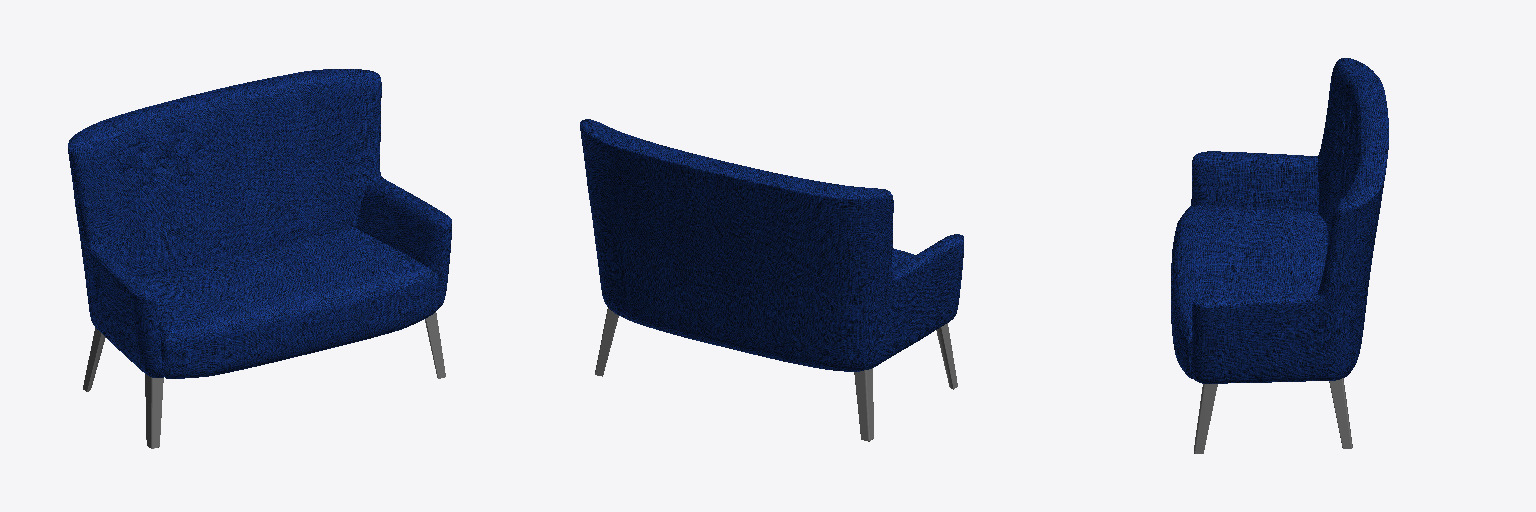
3 renders of one model, left to right at view 1: azimuth 30°, elevation 25°; view 2: azimuth 150°, elevation 25°; view 3: azimuth 270°, elevation 25°, orthographic.
Parts seen in each view (by area): view 1: deadgood_love_chair_double_blue; view 2: deadgood_love_chair_double_blue; view 3: deadgood_love_chair_double_blue.
Boxes of the visible parts, x1=… form: deadgood_love_chair_double_blue: x1=68, y1=69, x2=451, y2=448; deadgood_love_chair_double_blue: x1=580, y1=119, x2=963, y2=441; deadgood_love_chair_double_blue: x1=1171, y1=58, x2=1388, y2=453.
Size of the model in its own units: 124 by 95.07 by 74.21.
Materials: 3 (1 with a texture image).